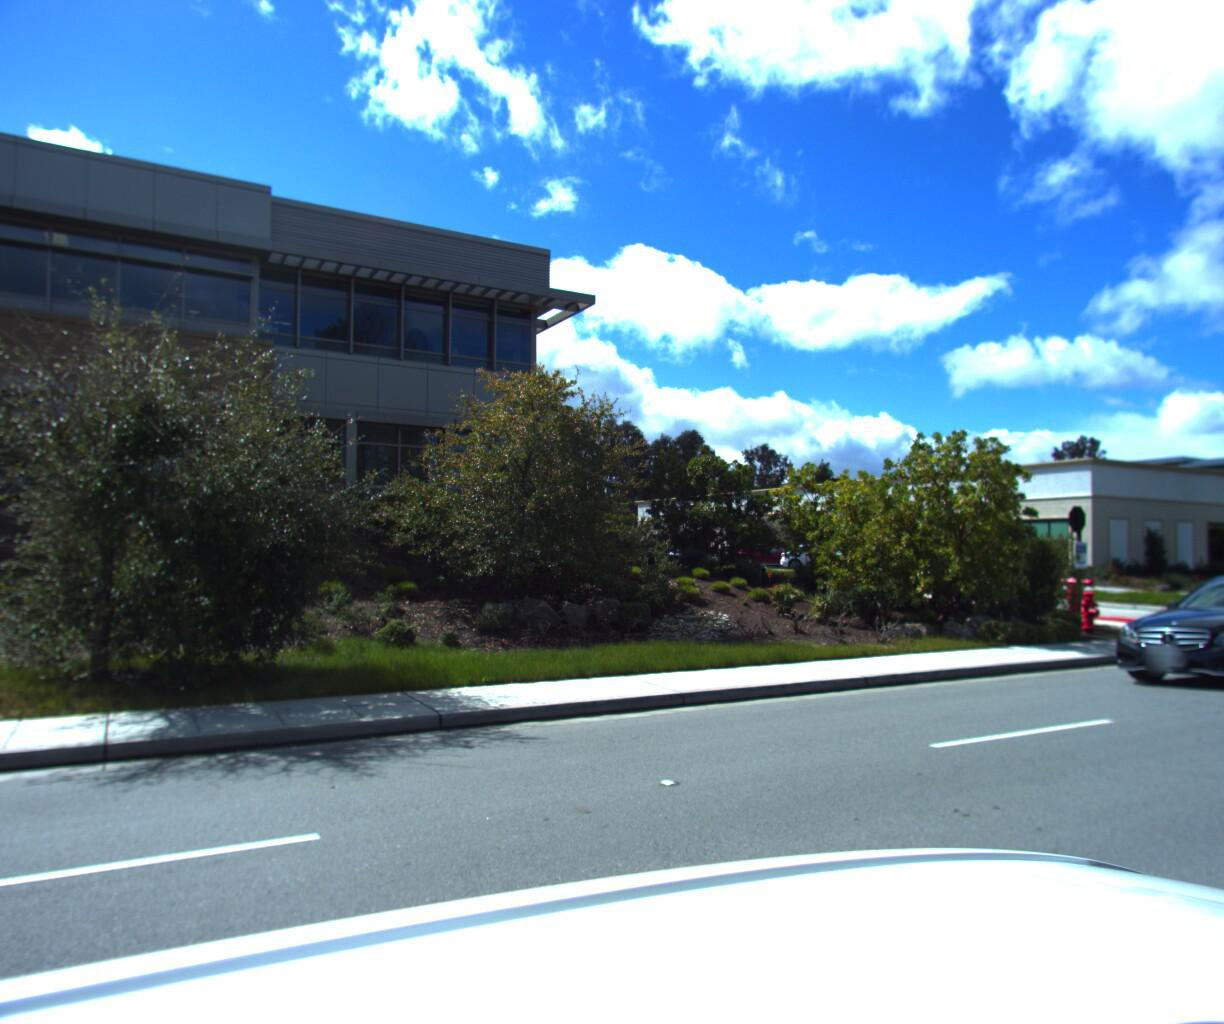car: (1093, 568, 1224, 713)
